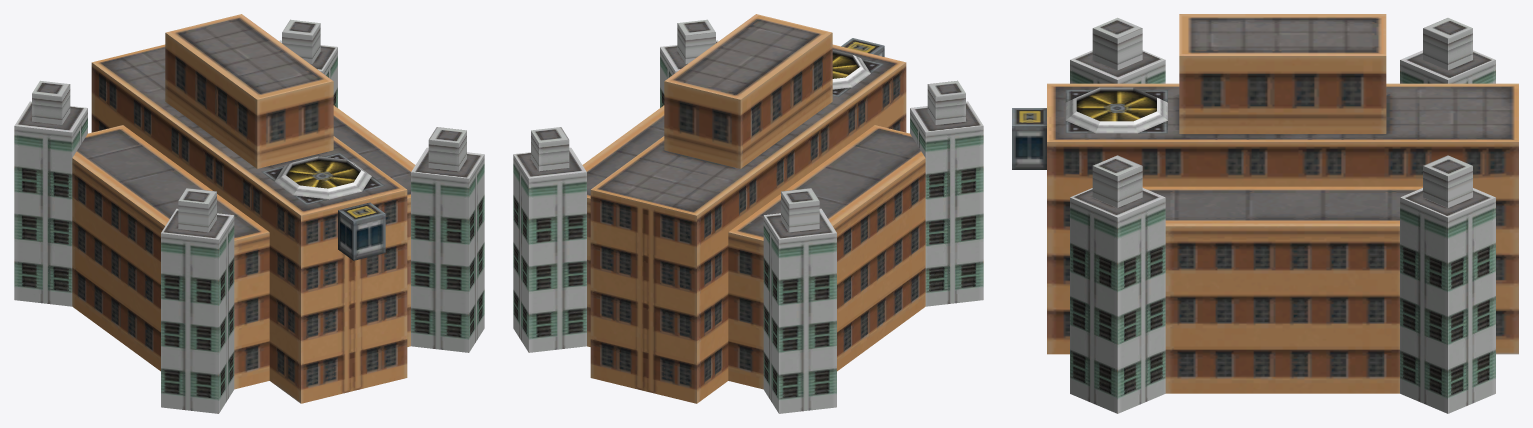
The model's file is Mesh_yanfa_zhongxin.FBX.
The picture shows the model from 3 angles, left to right: view 1: azimuth 30°, elevation 25°; view 2: azimuth 150°, elevation 25°; view 3: azimuth 270°, elevation 25°; orthographic projection. The views are drawn at different scales.
Visible parts, largest first — view 1: Mesh_yanfa_zhongxin; view 2: Mesh_yanfa_zhongxin; view 3: Mesh_yanfa_zhongxin.
Boxes of the visible parts, <box> form: Mesh_yanfa_zhongxin: <box>14,14,484,413</box>; Mesh_yanfa_zhongxin: <box>513,14,983,413</box>; Mesh_yanfa_zhongxin: <box>1012,14,1518,413</box>.
Bounding box in the file's own units: 302 × 229 × 363.
Materials: 1 (1 with a texture image).
